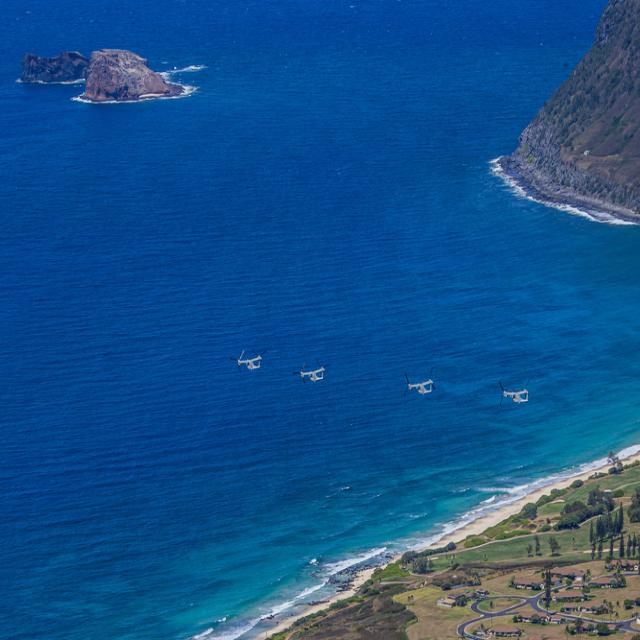MIL_Plane: (402, 367, 436, 398), (229, 348, 268, 374), (292, 359, 331, 385), (499, 377, 531, 406)
